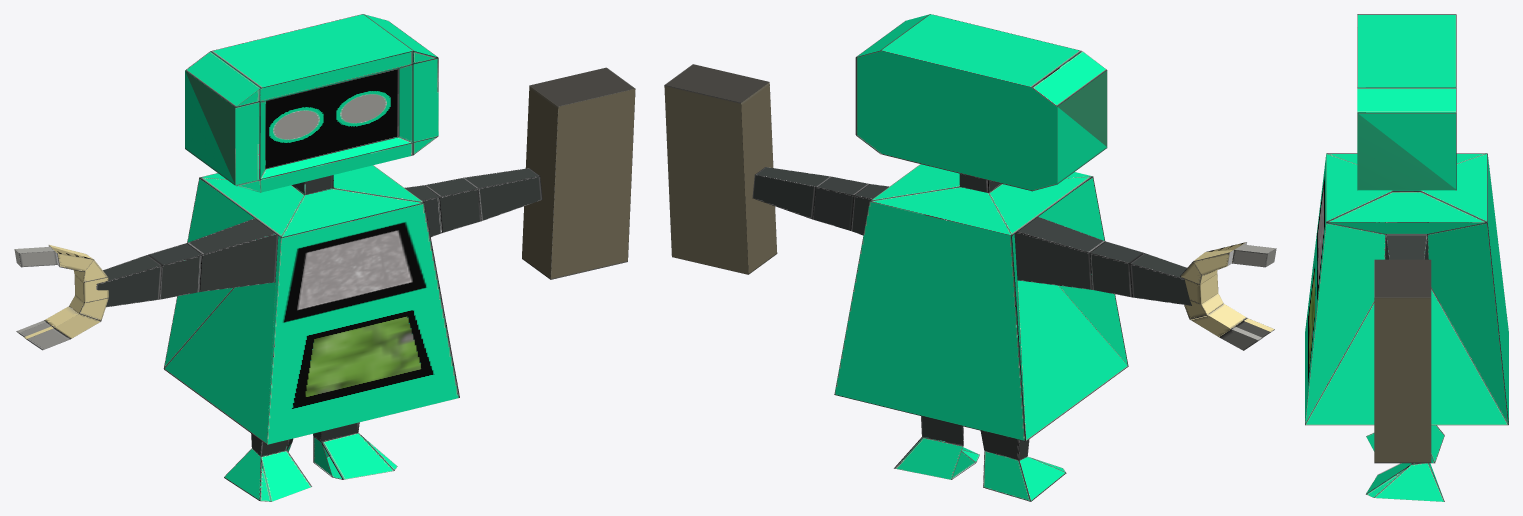
The model's file is Enemy.fbx.
3 renders of one model, left to right at view 1: azimuth 30°, elevation 25°; view 2: azimuth 150°, elevation 25°; view 3: azimuth 270°, elevation 25°, orthographic.
Visible parts, largest first — view 1: ROBOT_BODY, ROBOT_HAMMER, ROBOT_ARM; view 2: ROBOT_BODY, ROBOT_HAMMER, ROBOT_ARM; view 3: ROBOT_BODY, ROBOT_HAMMER.
Boxes of the visible parts, x1=… form: ROBOT_BODY: x1=93, y1=14, x2=542, y2=501; ROBOT_HAMMER: x1=522, y1=67, x2=635, y2=279; ROBOT_ARM: x1=14, y1=245, x2=108, y2=350; ROBOT_BODY: x1=752, y1=14, x2=1202, y2=501; ROBOT_HAMMER: x1=664, y1=64, x2=777, y2=274; ROBOT_ARM: x1=1180, y1=242, x2=1276, y2=350; ROBOT_BODY: x1=1305, y1=14, x2=1508, y2=501; ROBOT_HAMMER: x1=1374, y1=259, x2=1431, y2=463.
Size of the model in its own units: 248 by 167 by 73.58.
